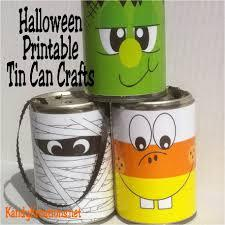Tin: (16, 0, 213, 219)
